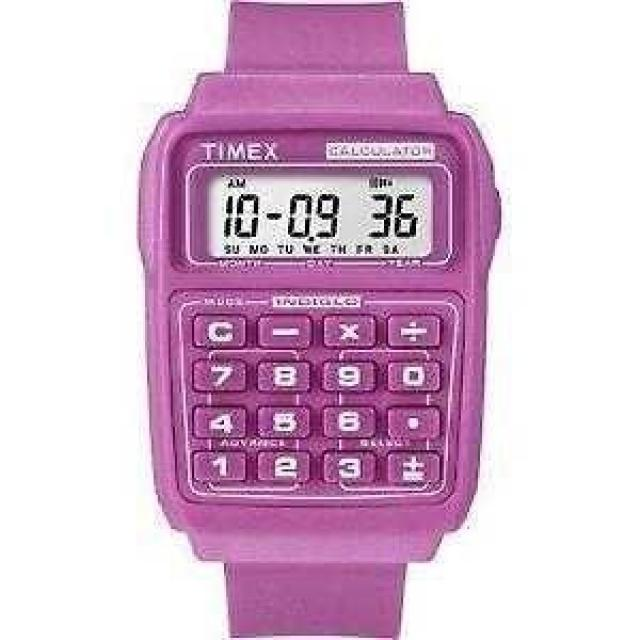Calculator: (134, 0, 503, 638)
